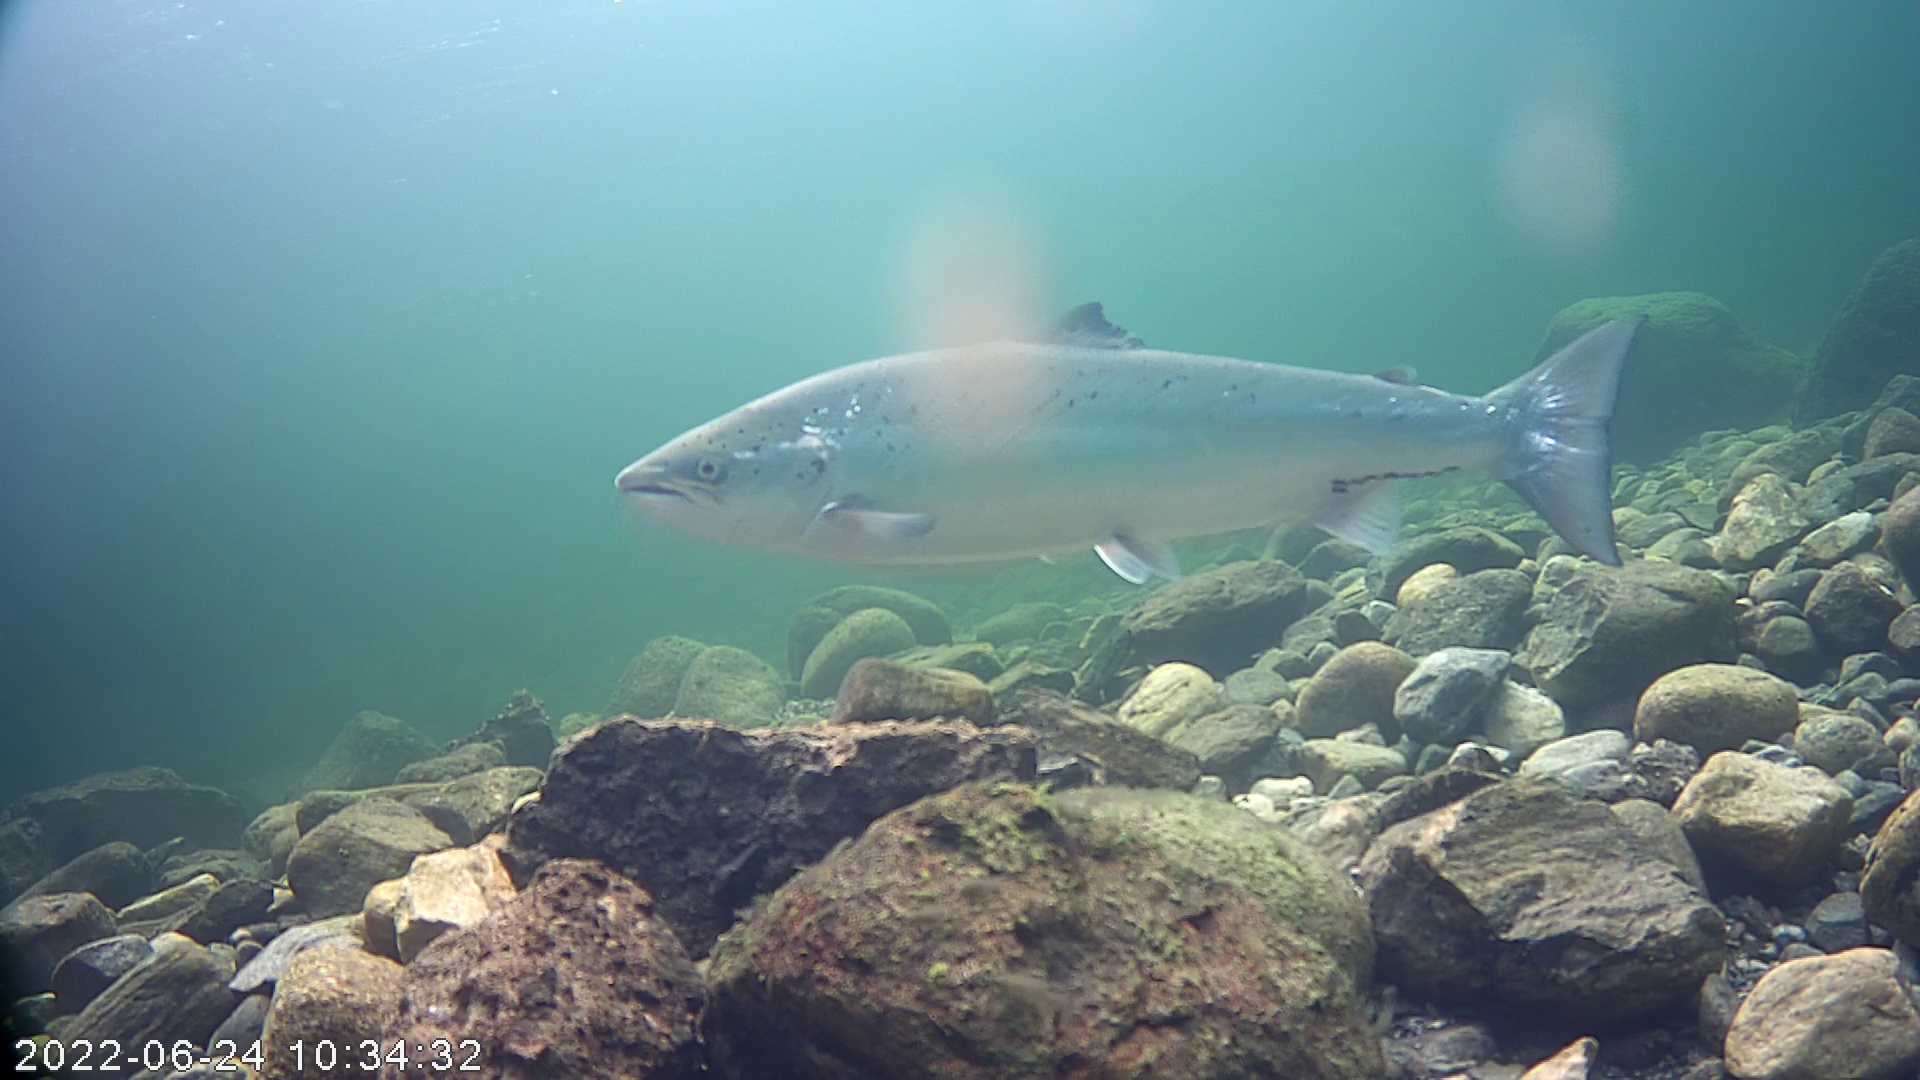salmon: (612, 298, 1648, 587)
